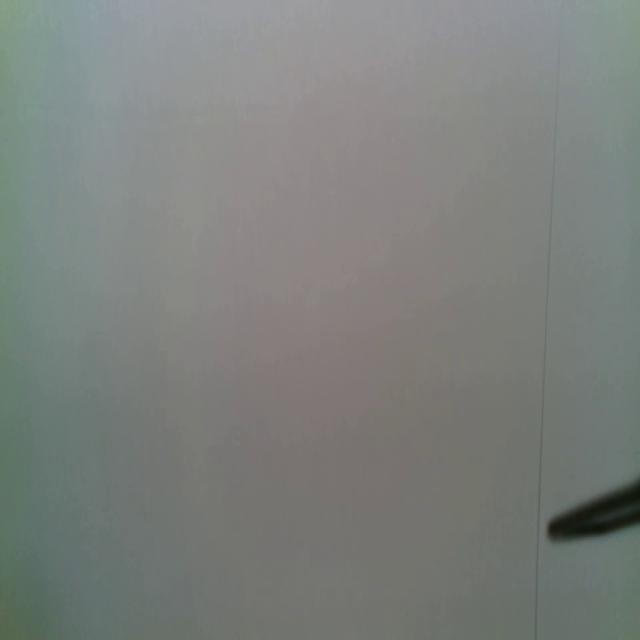crease: (537, 23, 563, 510), (533, 512, 543, 640)
